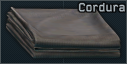Cordura polyamide fabric: (0, 0, 127, 64)
